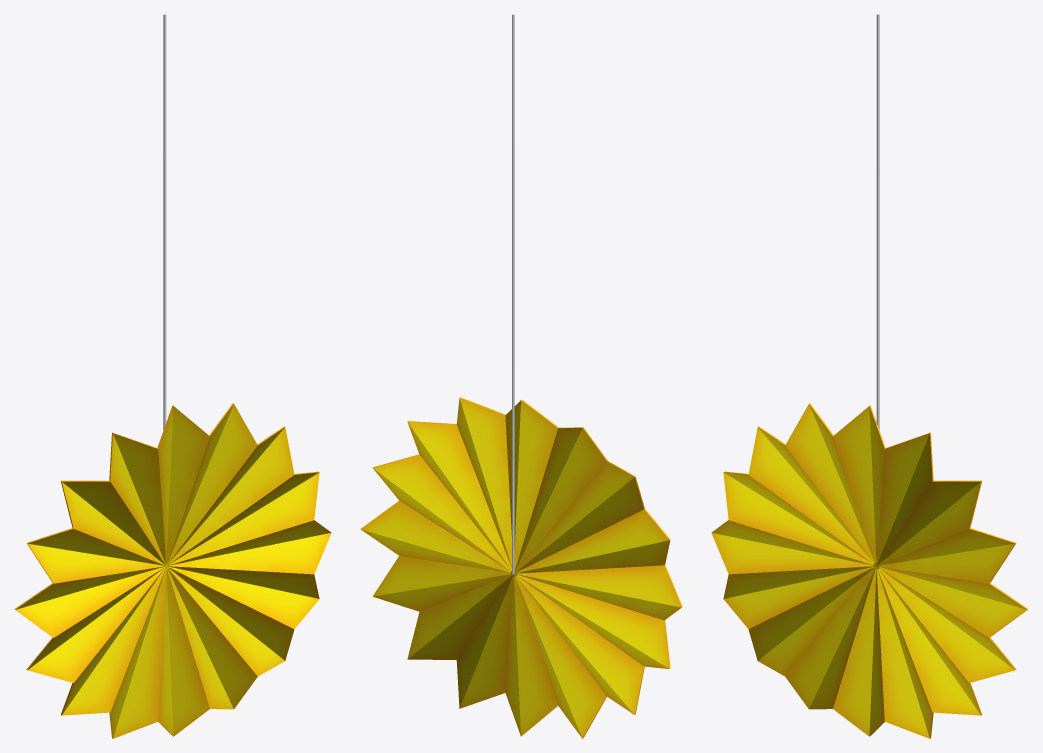
Rendered from PartyHangings01B_6.FBX.
The picture shows the model from 3 angles, left to right: view 1: azimuth 30°, elevation 25°; view 2: azimuth 150°, elevation 25°; view 3: azimuth 330°, elevation 25°; orthographic projection.
Parts seen in each view (by area): view 1: PartyHangings01B_6; view 2: PartyHangings01B_6; view 3: PartyHangings01B_6.
Boxes of the visible parts, x1,y1,x2,y2 form: PartyHangings01B_6: [14, 14, 331, 738]; PartyHangings01B_6: [360, 14, 682, 738]; PartyHangings01B_6: [711, 14, 1028, 738].
Size of what is drawn, in the model's own units: 0.2837 by 0.6134 by 0.031.
